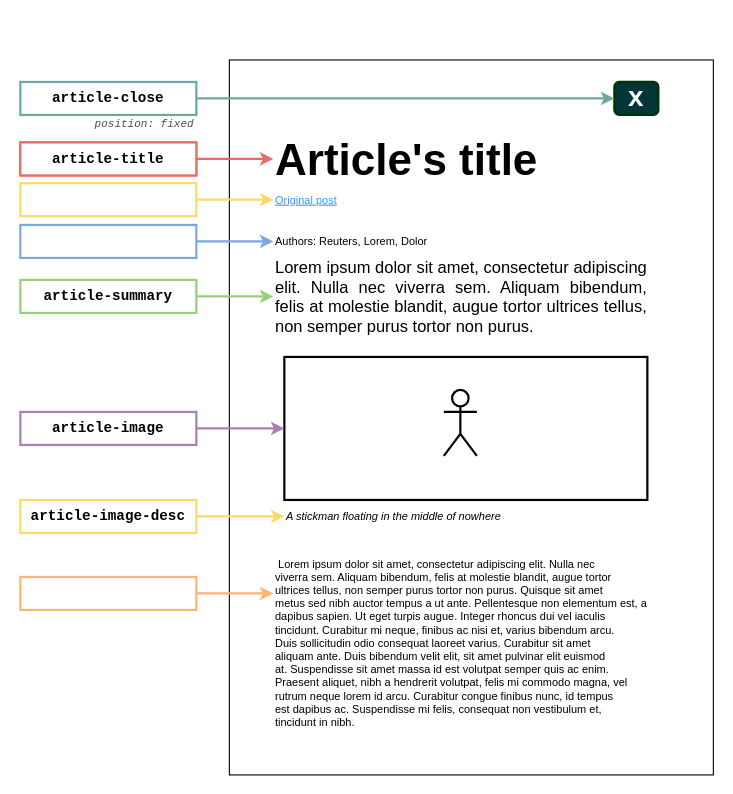
Some shapes in this 733 by 794 pixel diagram are drawn without their labels. The shapes that lost their labels are listed below. From the top down, each one's centre as x and y in pixels, then its label:
At point 108,199: "article-url".
At point 108,240: "article-authors".
At point 108,592: "article-content".
